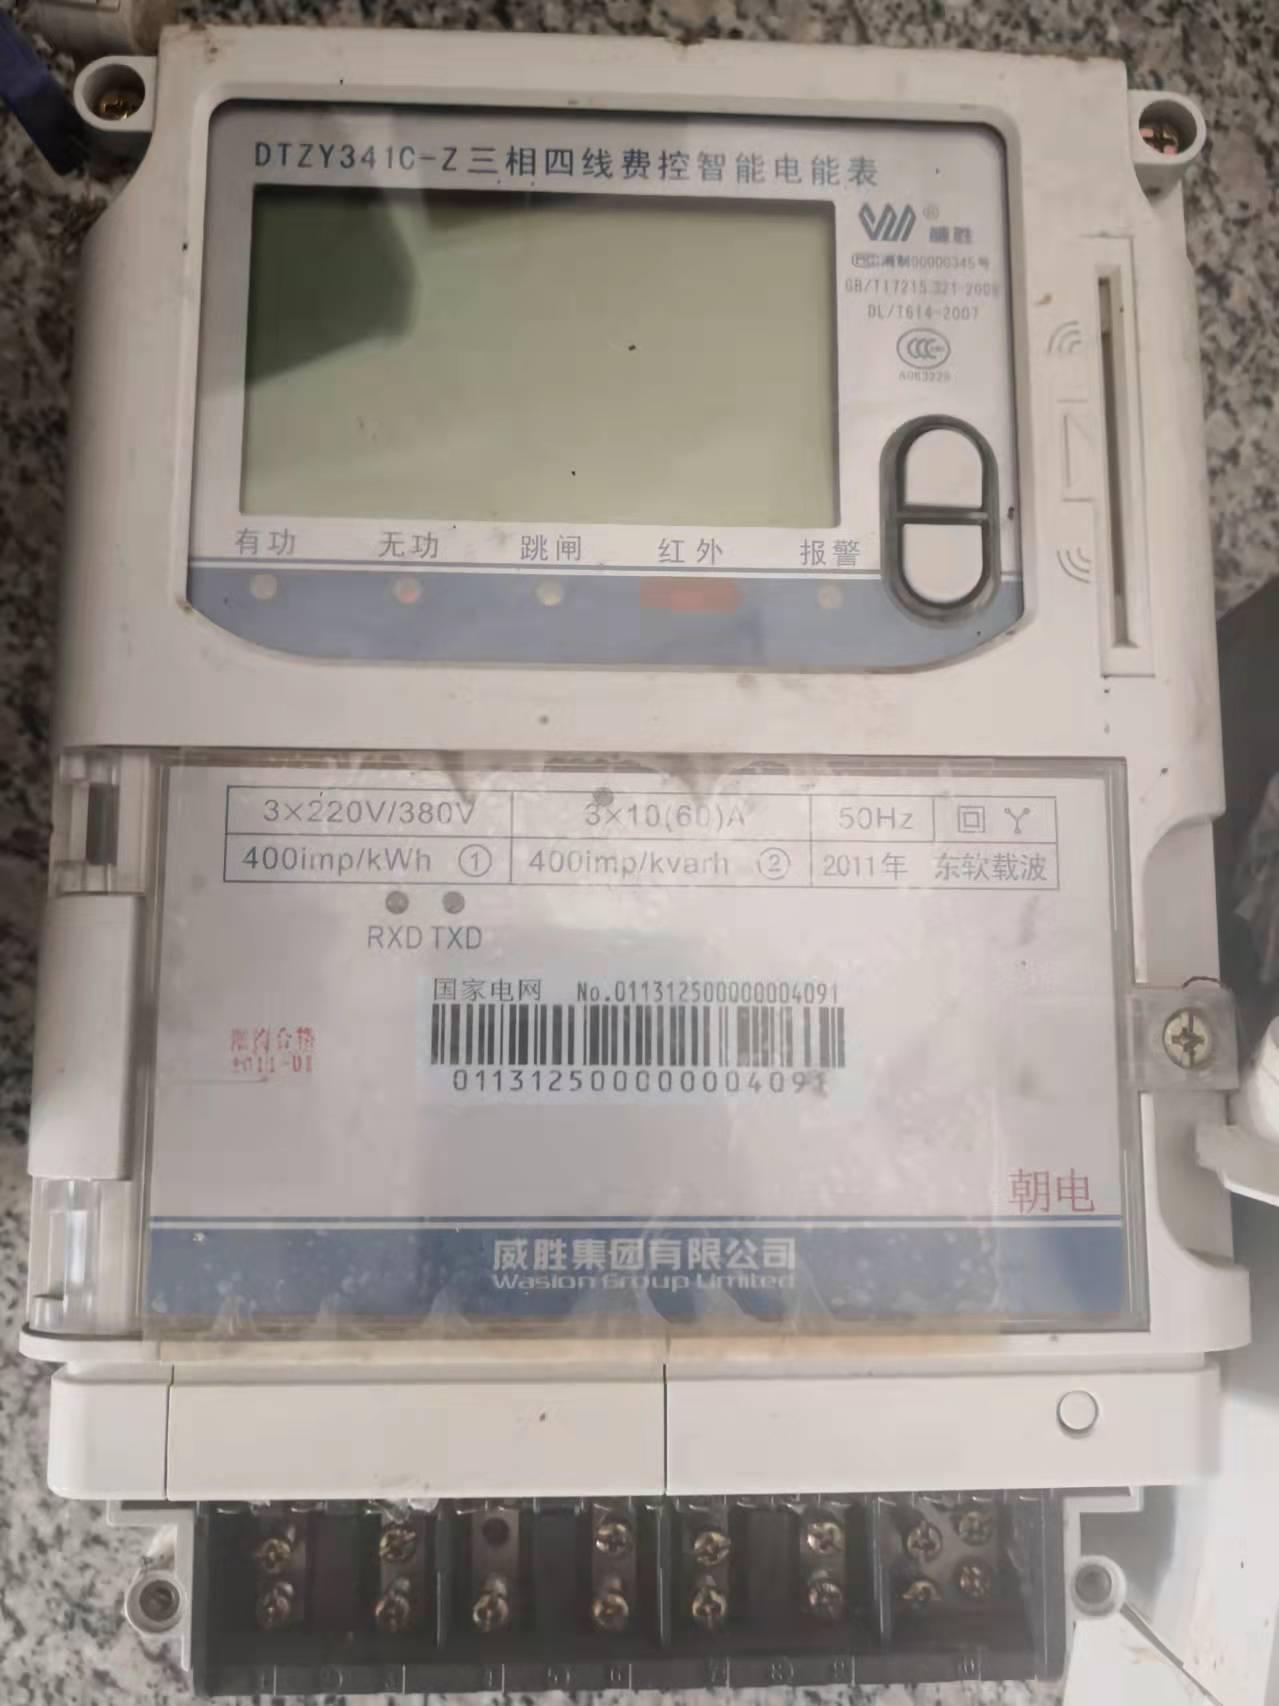digital: (21, 21, 1251, 1359)
